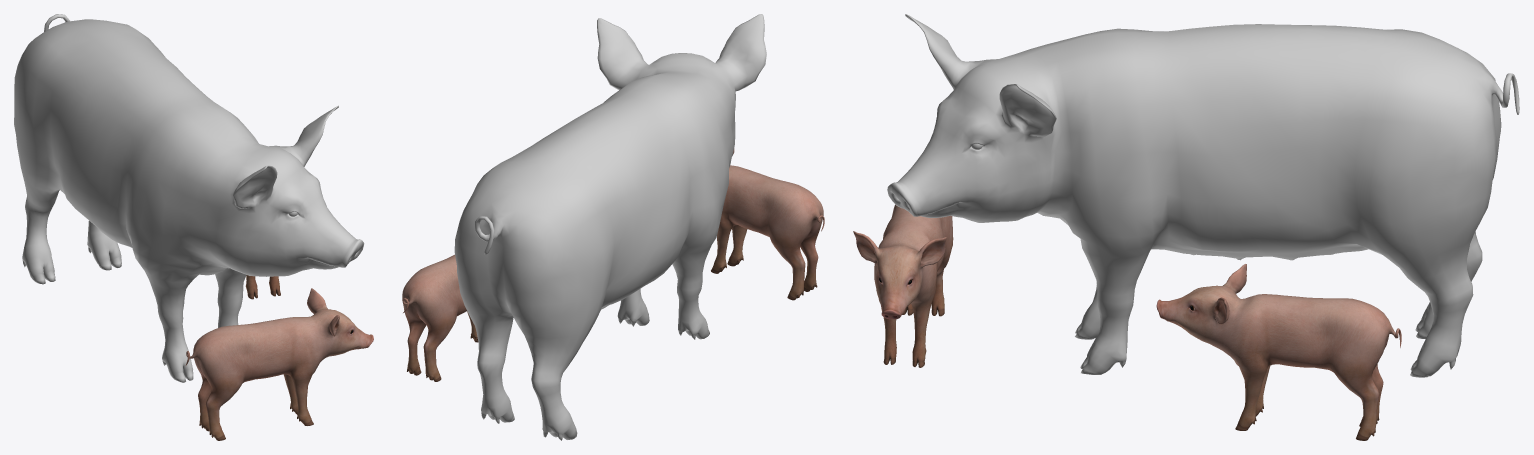
Rendered from pig-family-animations.fbx.
3 renders of one model, left to right at view 1: azimuth 30°, elevation 25°; view 2: azimuth 150°, elevation 25°; view 3: azimuth 270°, elevation 25°, orthographic. The views are drawn at different scales.
Parts seen in each view (by area): view 1: Pig_LOD0_Pig_0, Piggy_LOD0.001_Piggy_0, Piggy_LOD0_Piggy_0; view 2: Pig_LOD0_Pig_0, Piggy_LOD0.001_Piggy_0, Piggy_LOD0_Piggy_0; view 3: Pig_LOD0_Pig_0, Piggy_LOD0_Piggy_0, Piggy_LOD0.001_Piggy_0.
Boxes of the visible parts, x1,y1,x2,y2 form: Pig_LOD0_Pig_0: (14, 14, 364, 382); Piggy_LOD0.001_Piggy_0: (185, 288, 373, 440); Piggy_LOD0_Piggy_0: (245, 275, 280, 299); Pig_LOD0_Pig_0: (454, 14, 766, 440); Piggy_LOD0.001_Piggy_0: (711, 148, 824, 300); Piggy_LOD0_Piggy_0: (402, 254, 478, 381); Pig_LOD0_Pig_0: (887, 14, 1519, 377); Piggy_LOD0_Piggy_0: (1156, 264, 1401, 440); Piggy_LOD0.001_Piggy_0: (853, 204, 953, 367).
Bounding box in the file's own units: 96.88 × 101 × 185.
